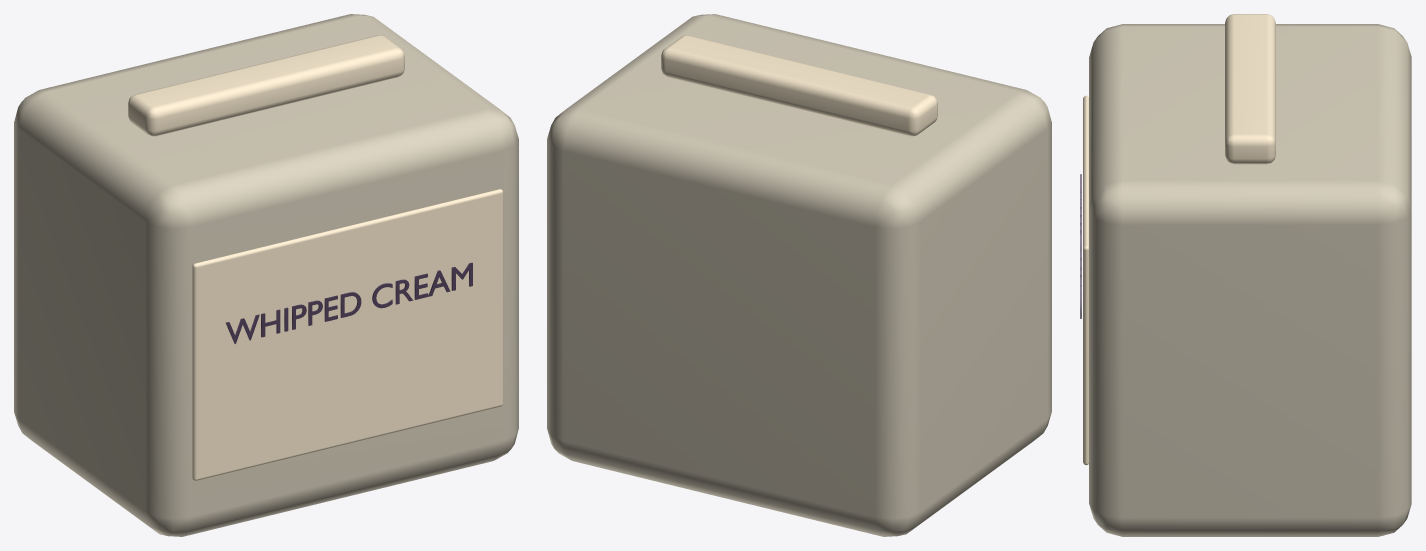
The model's file is Whipped_cream_refill.fbx.
The picture shows the model from 3 angles, left to right: view 1: azimuth 30°, elevation 25°; view 2: azimuth 150°, elevation 25°; view 3: azimuth 270°, elevation 25°; orthographic projection.
Visible parts, largest first — view 1: Toon_Whipped_cream_refill Rounded refill package.001, Toon_Whipped_cream_refill Cream paper label.001, Toon_Whipped_cream_refill Folded seal.001, Package contents.008; view 2: Toon_Whipped_cream_refill Rounded refill package.001, Toon_Whipped_cream_refill Folded seal.001; view 3: Toon_Whipped_cream_refill Rounded refill package.001, Toon_Whipped_cream_refill Folded seal.001, Toon_Whipped_cream_refill Cream paper label.001.
Part boxes in pixels (x1,y1,x2,y2): Toon_Whipped_cream_refill Rounded refill package.001: [14, 14, 518, 536]; Toon_Whipped_cream_refill Cream paper label.001: [192, 189, 503, 480]; Toon_Whipped_cream_refill Folded seal.001: [128, 35, 404, 136]; Package contents.008: [226, 262, 472, 343]; Toon_Whipped_cream_refill Rounded refill package.001: [547, 14, 1051, 536]; Toon_Whipped_cream_refill Folded seal.001: [661, 35, 937, 136]; Toon_Whipped_cream_refill Rounded refill package.001: [1089, 24, 1411, 536]; Toon_Whipped_cream_refill Folded seal.001: [1225, 14, 1275, 164]; Toon_Whipped_cream_refill Cream paper label.001: [1083, 95, 1088, 465].
Size of the model in its own units: 32 by 31.4 by 24.66.
